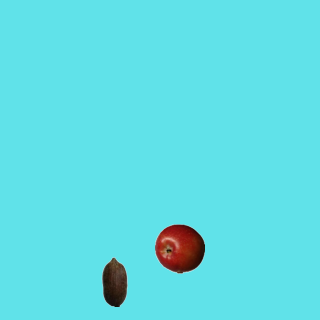Apple Braeburn: (154, 223, 204, 273)
Nut Pecan: (89, 256, 139, 306)
